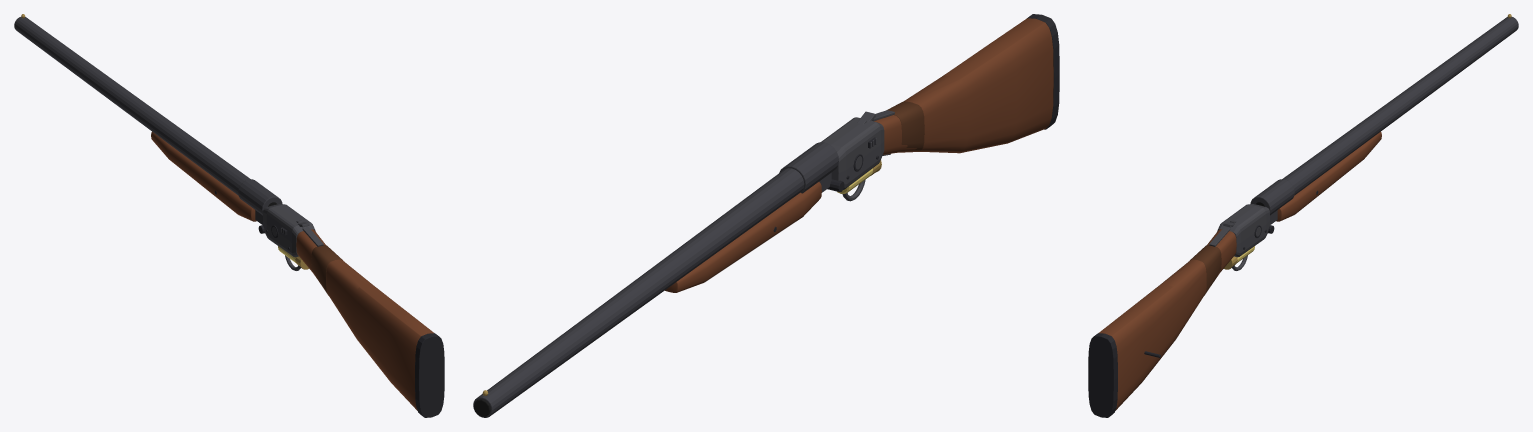
File: shotgun.glb
The picture shows the model from 3 angles, left to right: view 1: azimuth 30°, elevation 25°; view 2: azimuth 150°, elevation 25°; view 3: azimuth 330°, elevation 25°; orthographic projection. The views are drawn at different scales.
Parts seen in each view (by area): view 1: Shotgun, ShotgunBarrel; view 2: Shotgun, ShotgunBarrel; view 3: Shotgun, ShotgunBarrel.
Part boxes in pixels (x1=…): Shotgun: x1=258, y1=204, x2=444, y2=417; ShotgunBarrel: x1=14, y1=14, x2=282, y2=224; Shotgun: x1=821, y1=14, x2=1059, y2=201; ShotgunBarrel: x1=473, y1=142, x2=838, y2=417; Shotgun: x1=1088, y1=204, x2=1274, y2=417; ShotgunBarrel: x1=1250, y1=14, x2=1518, y2=224.
Size of the model in its own units: 0.0675 by 0.1647 by 1.18.
